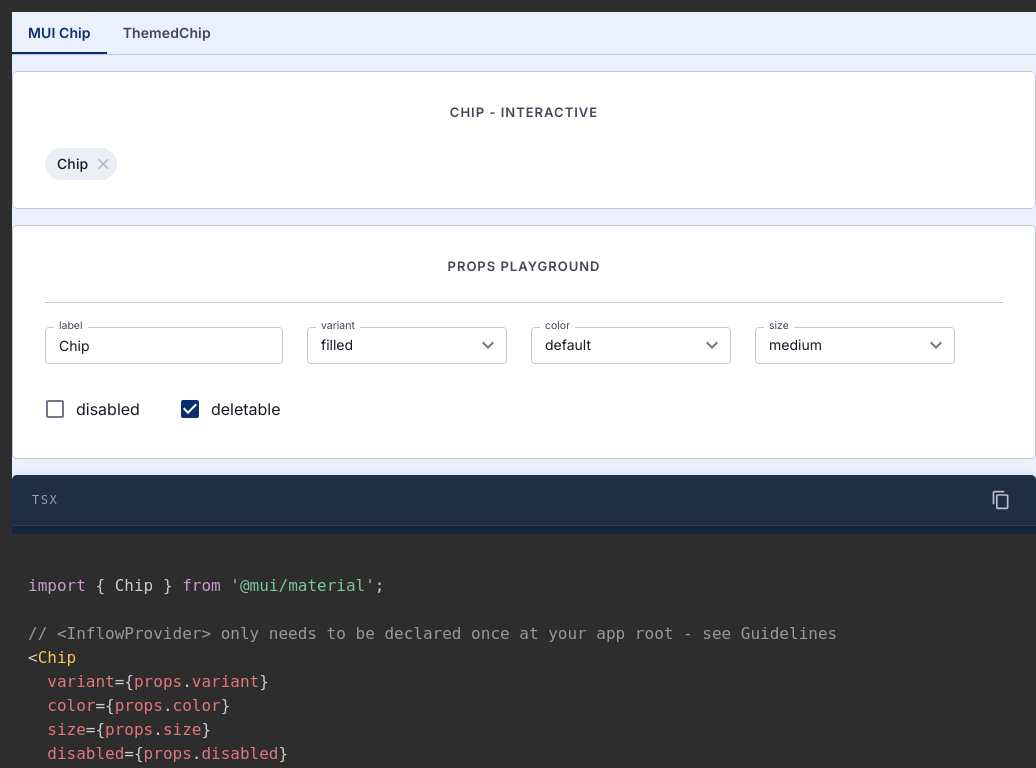
Test: ChipDemo › offers additional Material outlined icons without changing the single-chip playground
Click the tab "ThemedChip". click: click(167, 33)
box: [107,12,227,54]
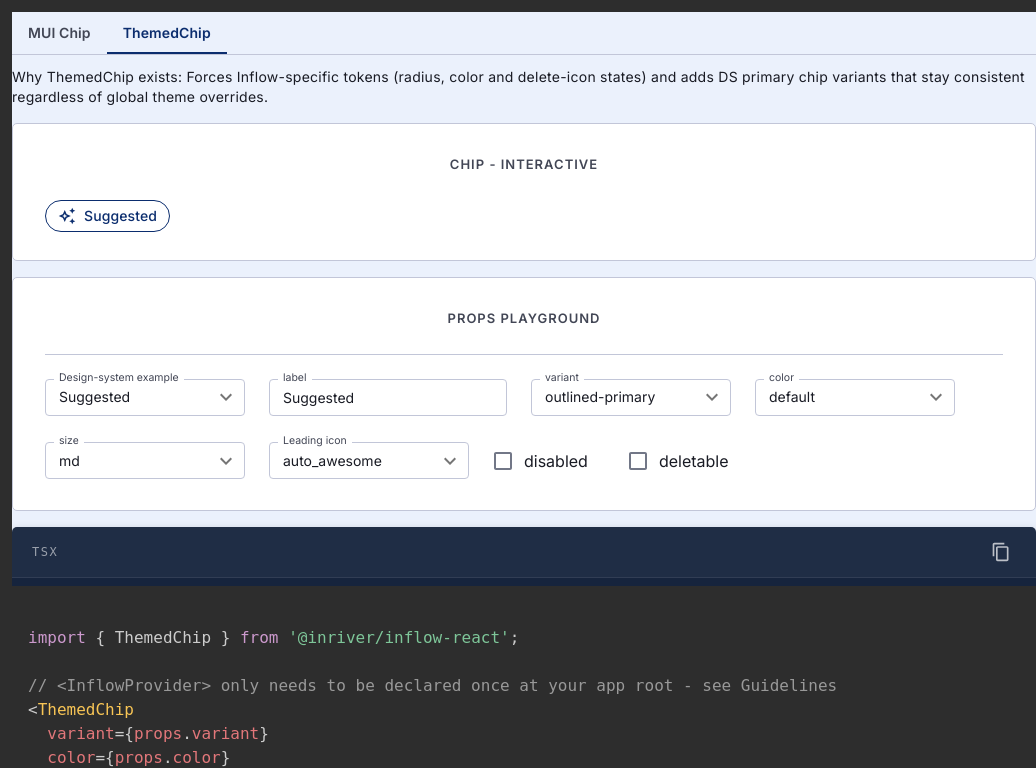
Press the mouse on the dropdown named "Leading icon" at (332, 460), box [283,452,382,469]
(page scrolled)
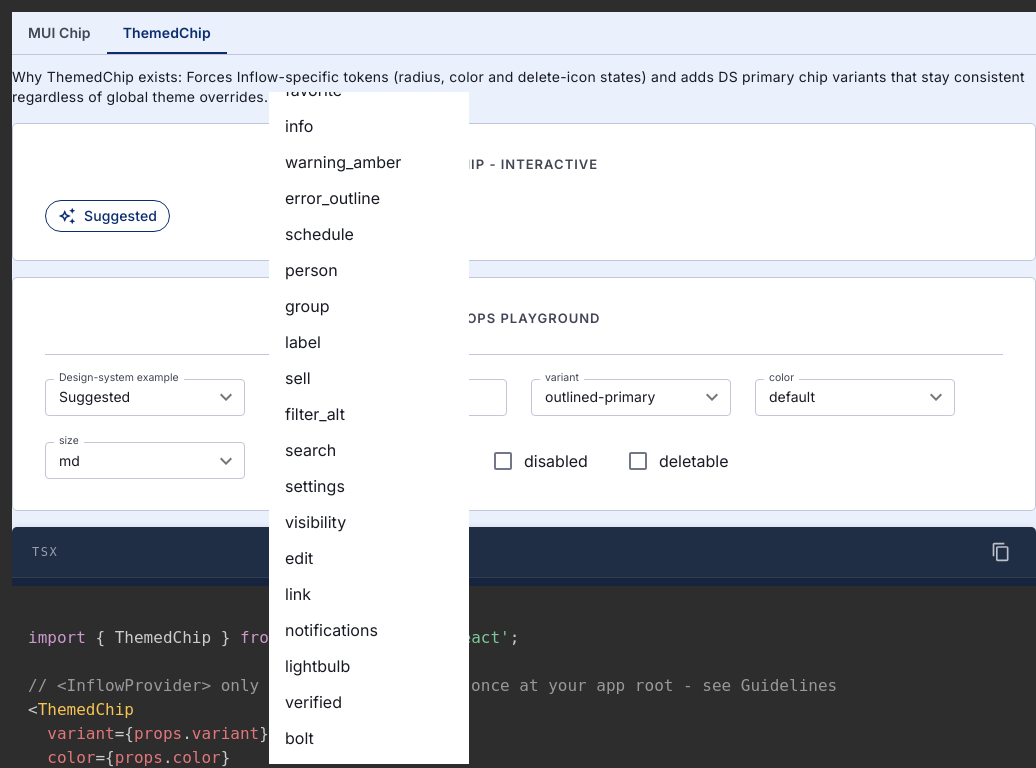
Click the option "lightbulb". click: click(318, 666)
box: [285,656,350,676]
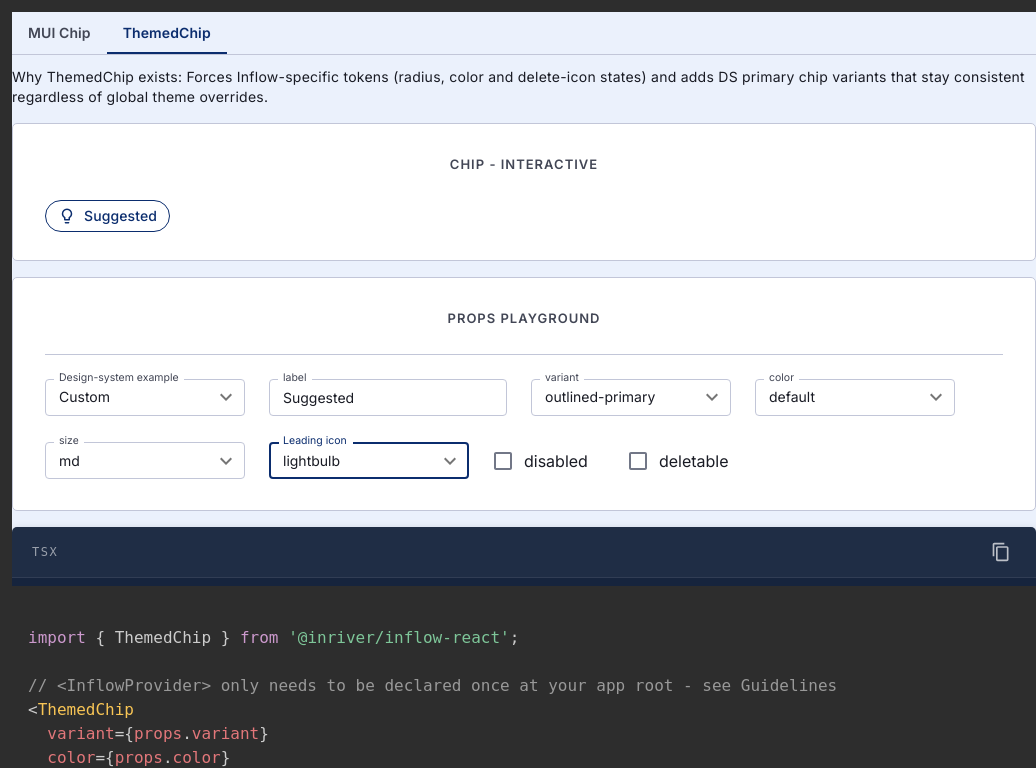
Expected: the text "Suggested" is shown, [45,200,170,232]
Expected: the dropdown named "Design-system example" reads "Custom", [59,388,110,405]
